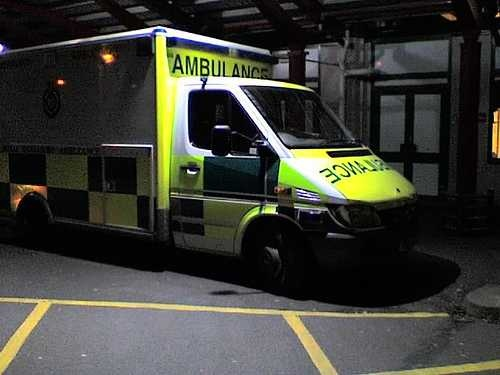Ambulance: (0, 30, 427, 298)
